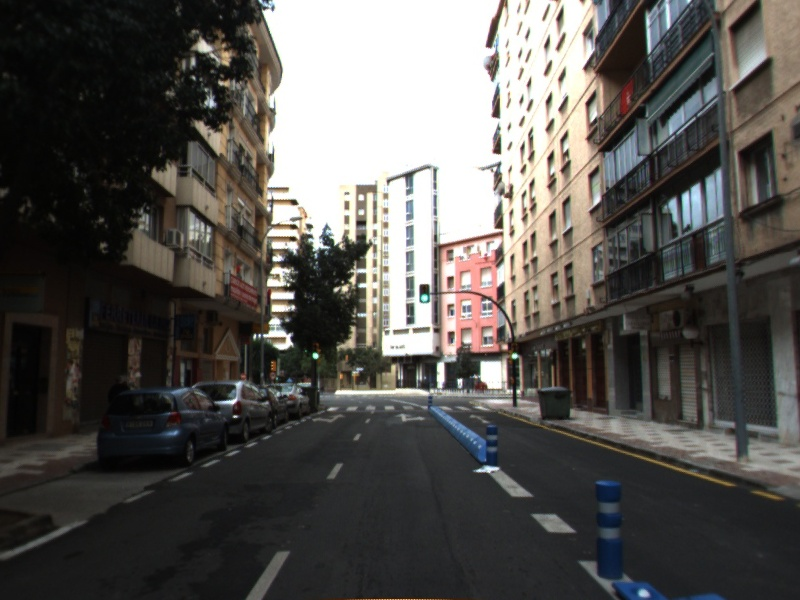STRAIGHT: (468, 413, 492, 425)
STRAIGHT_LEFT: (310, 412, 348, 424)
STRAIGHT_RIGHT: (393, 411, 428, 424)
